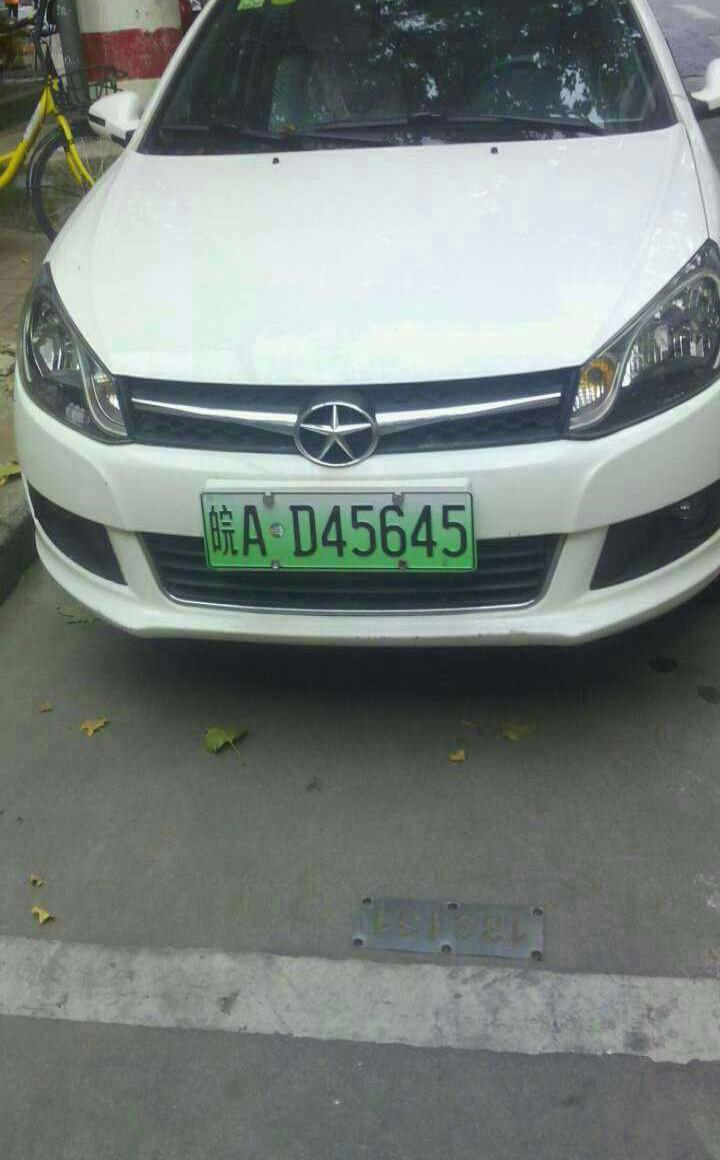car_id: (201, 490, 479, 569)
